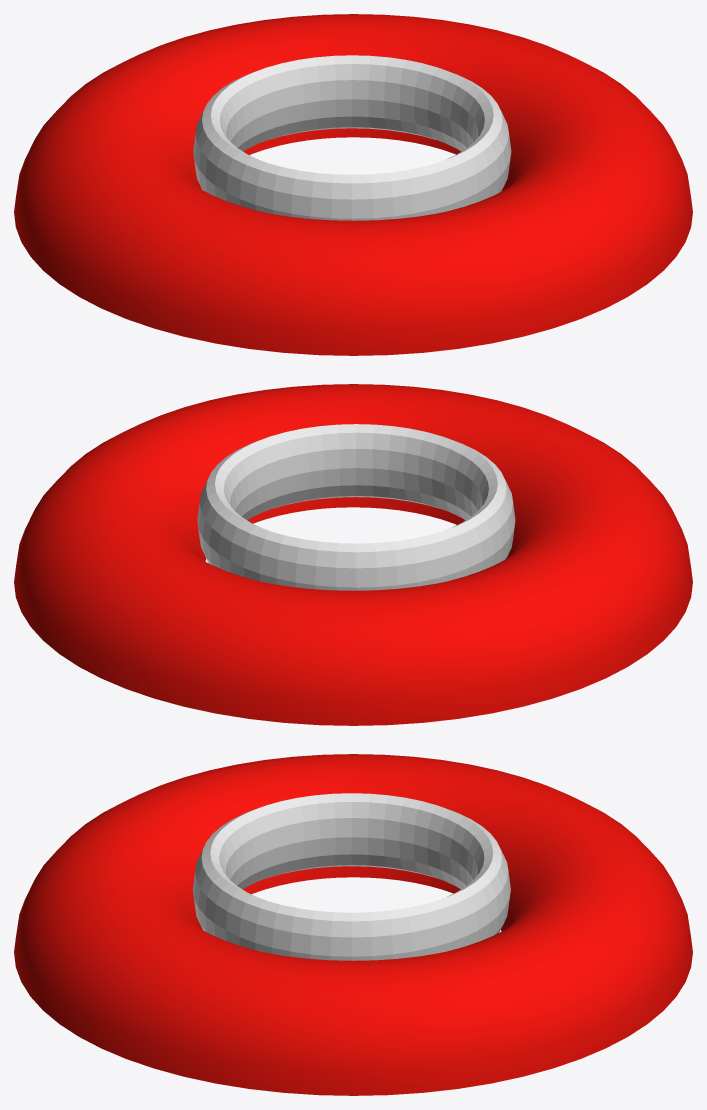
File: rsocket.fbx
3 renders of one model, top to bottom at view 1: azimuth 30°, elevation 25°; view 2: azimuth 150°, elevation 25°; view 3: azimuth 270°, elevation 25°, orthographic.
Parts seen in each view (by area): view 1: Torus; view 2: Torus; view 3: Torus.
Part boxes in pixels (box(x1,y1,x2,y2)): Torus: box(14, 14, 692, 355); Torus: box(14, 384, 692, 725); Torus: box(14, 754, 692, 1095).
Size of the model in its own units: 278 by 44.48 by 278.
